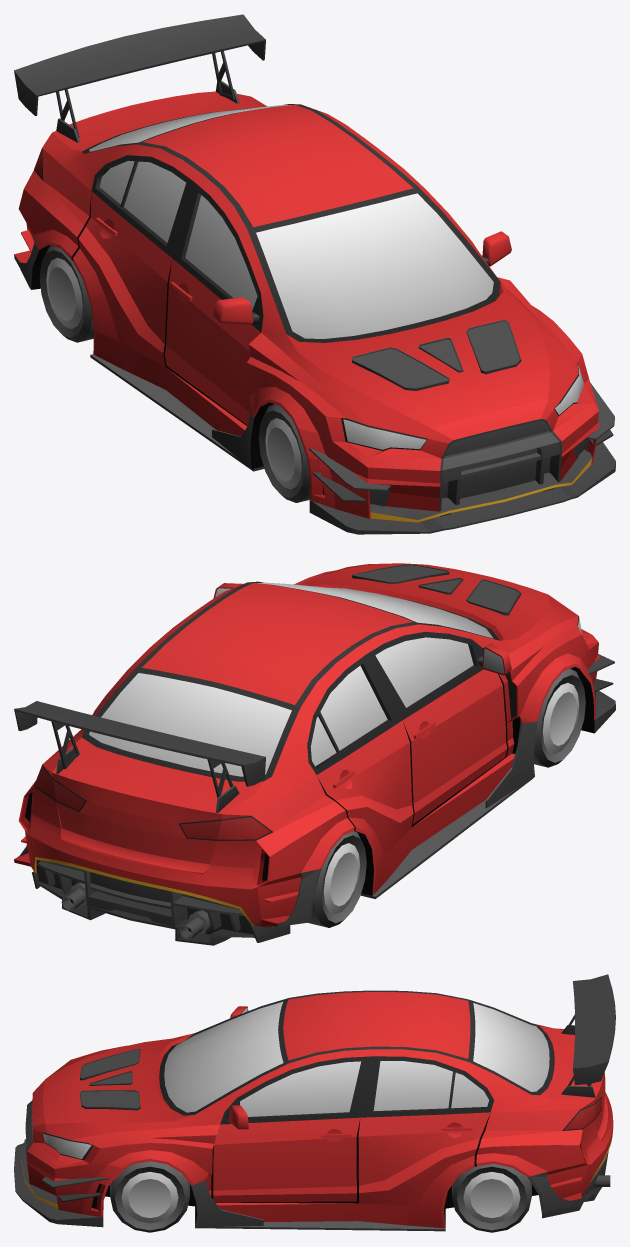
File: Mitsubishi Lancer Evolution X Varis.fbx
3 renders of one model, top to bottom at view 1: azimuth 30°, elevation 25°; view 2: azimuth 150°, elevation 25°; view 3: azimuth 270°, elevation 25°, orthographic. The views are drawn at different scales.
Parts seen in each view (by area): view 1: Body, RRW, FRW; view 2: Body, RRW, FRW; view 3: Body, FLW, RLW.
Part boxes in pixels (bbox=[...]): Body: bbox=[14, 14, 615, 534]; RRW: bbox=[39, 245, 93, 342]; FRW: bbox=[258, 404, 310, 502]; Body: bbox=[14, 563, 615, 945]; RRW: bbox=[308, 831, 366, 927]; FRW: bbox=[533, 668, 585, 767]; Body: bbox=[14, 974, 615, 1231]; FLW: bbox=[110, 1161, 189, 1232]; RLW: bbox=[452, 1163, 531, 1232].
Bounding box in the file's own units: 204 × 141 × 465.
1 material, 1 textured.
